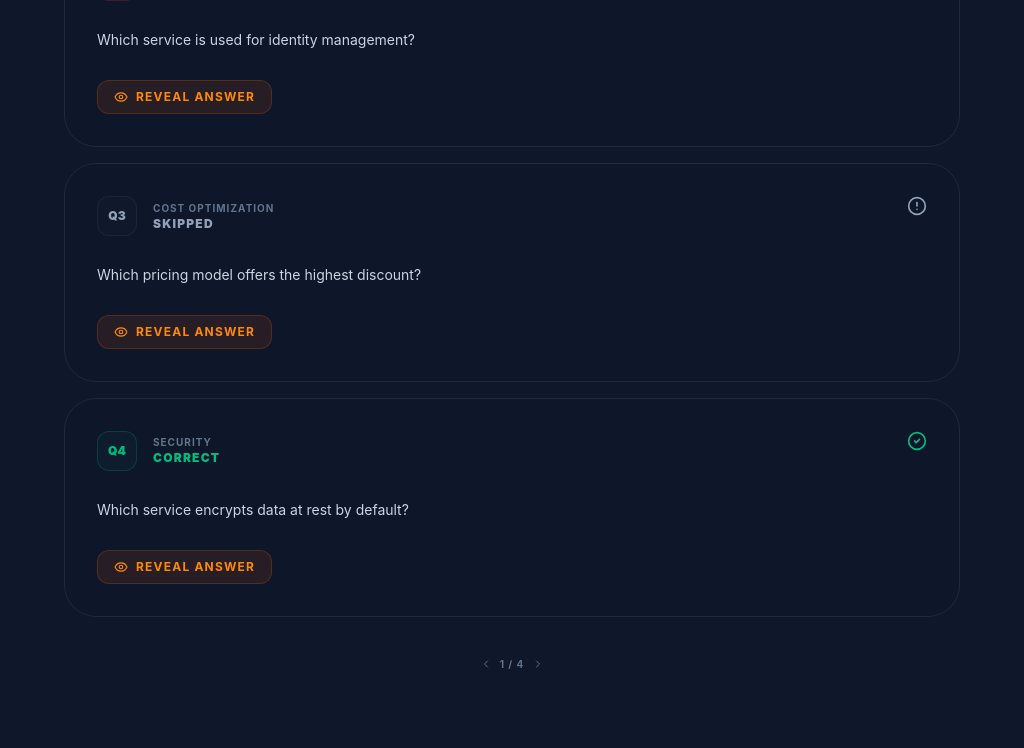
ResultReview Page › Filter tab switching (Requirement 4.1) › resets focused index when switching filters
This screenshot has width=1024, height=748.
(page scrolled)
Expected: the text "1 / 4" is shown, [500, 656, 524, 672]
# Move to question 3
Press ArrowRight
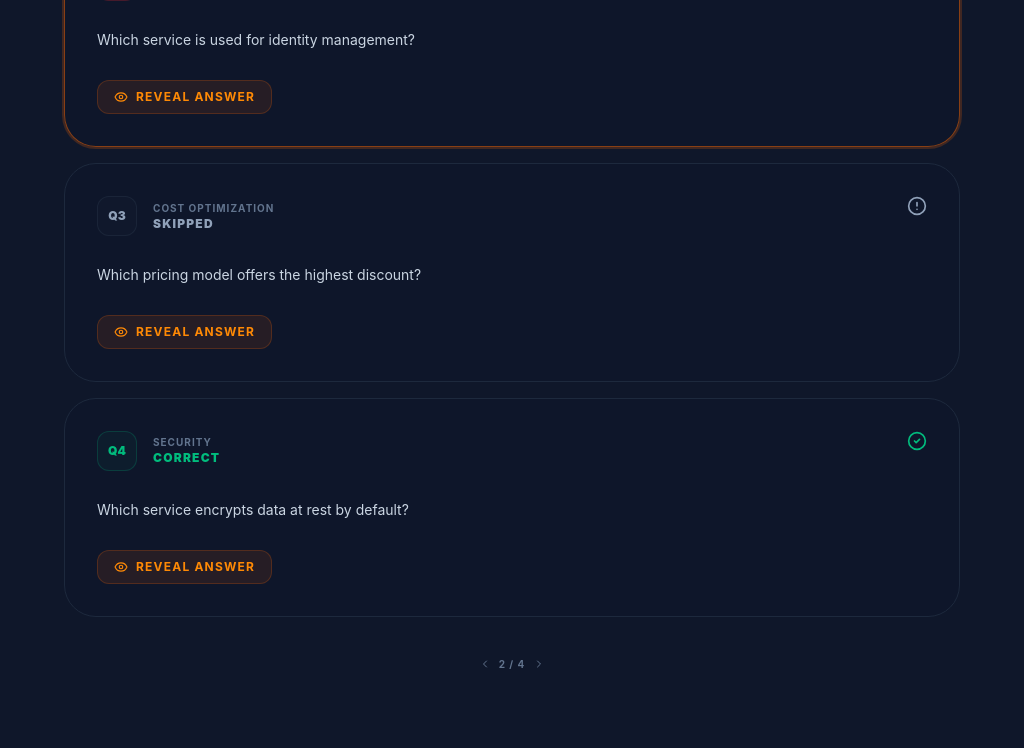
Press ArrowRight
(page scrolled)
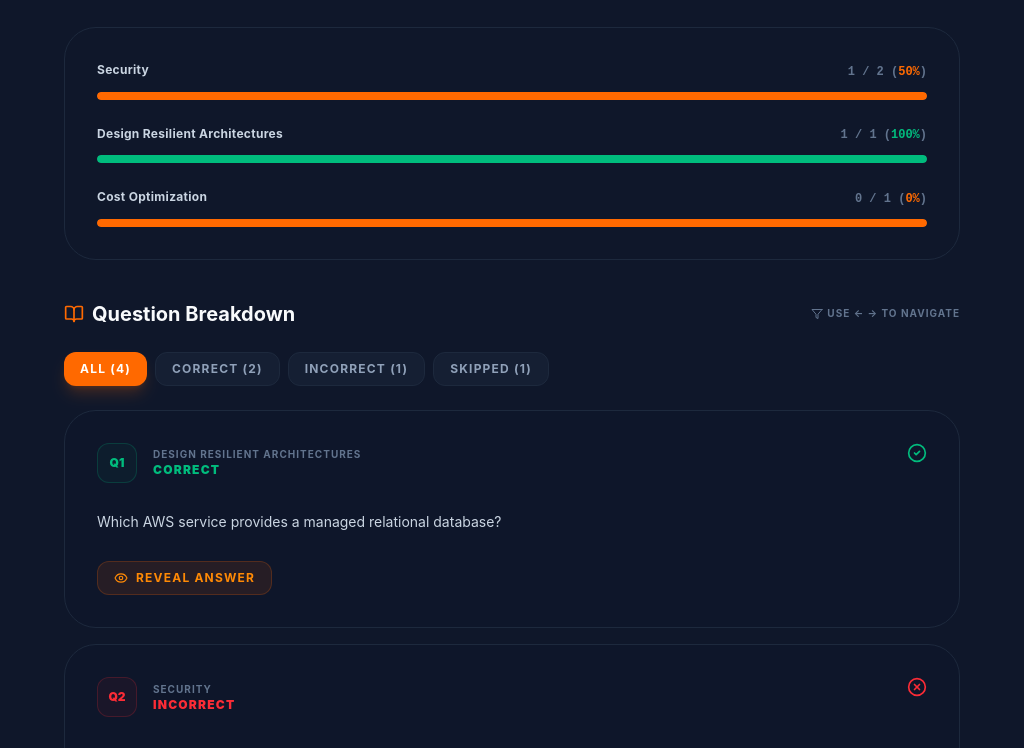
# Switch to Correct filter — should reset to 1/2
Click the button "Correct (2)" at (217, 368), box [155, 352, 280, 386]
(page scrolled)
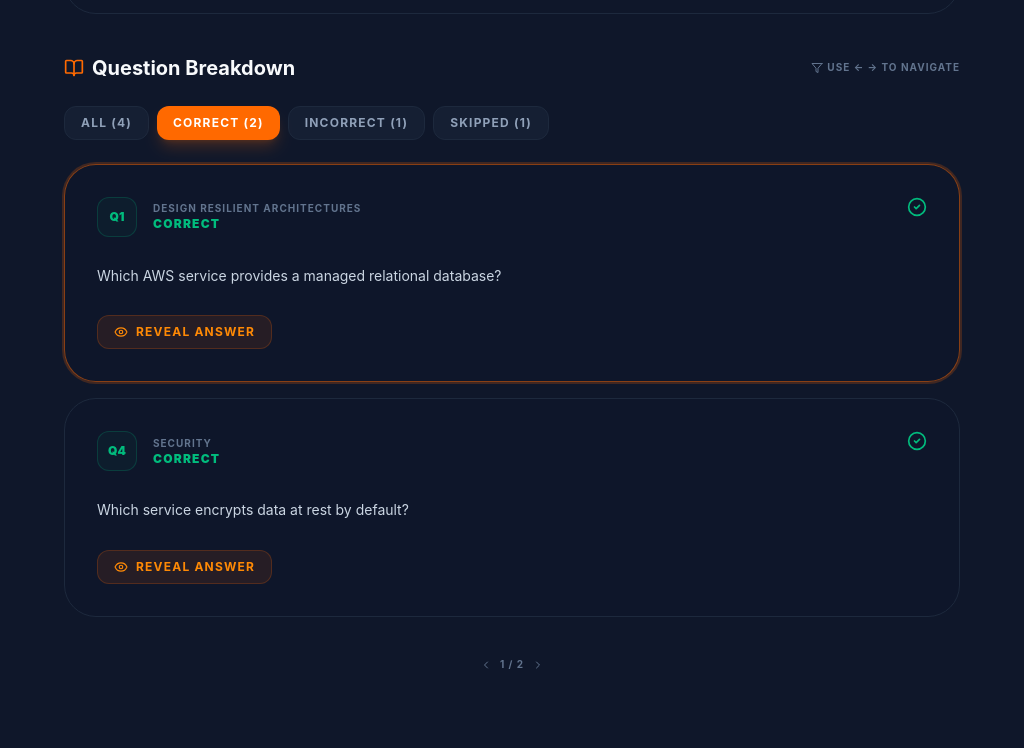
Expected: the text "1 / 2" is shown, [500, 657, 524, 672]
